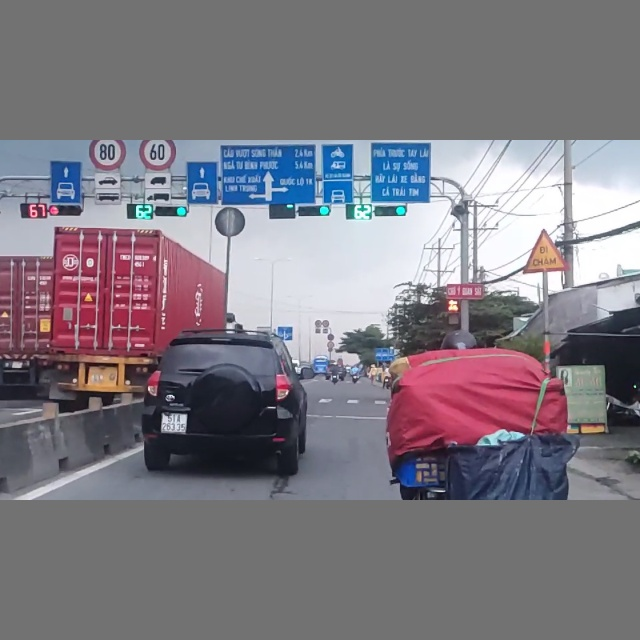P.127*60: (139, 141, 177, 170)
P.127*80: (89, 141, 126, 171)
W.245a: (522, 228, 569, 273)
